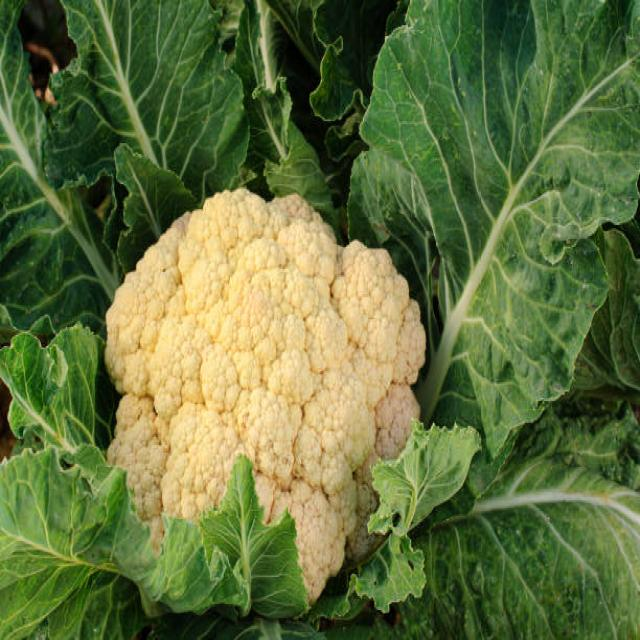cauliflower: (84, 188, 501, 587)
